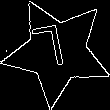L_S: (37, 24, 77, 79)
